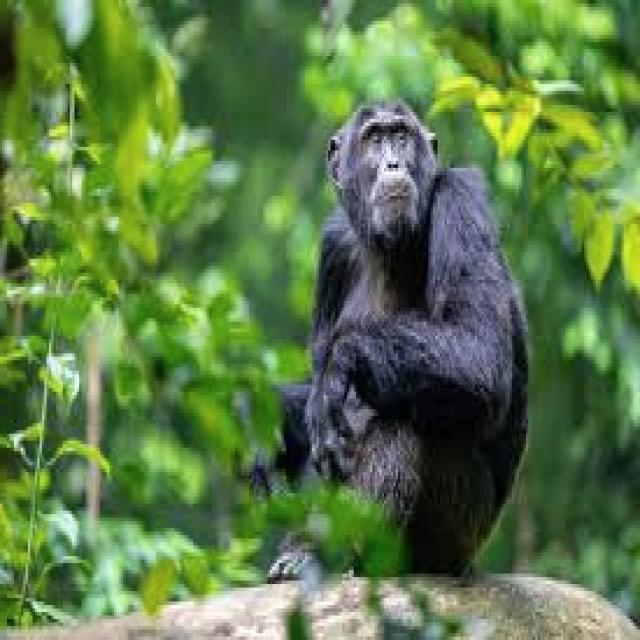chimpanzee: (277, 101, 528, 570)
